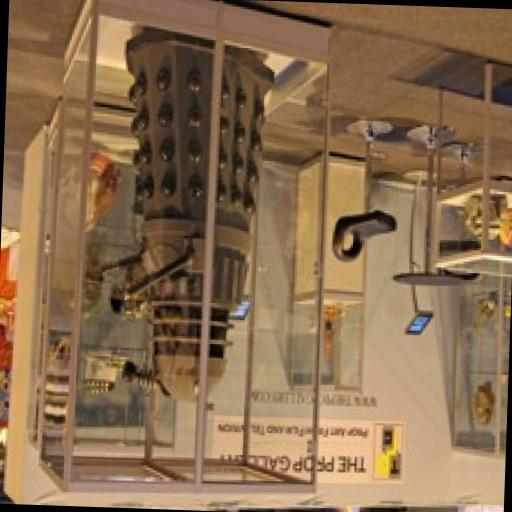dalek: (86, 26, 281, 411)
